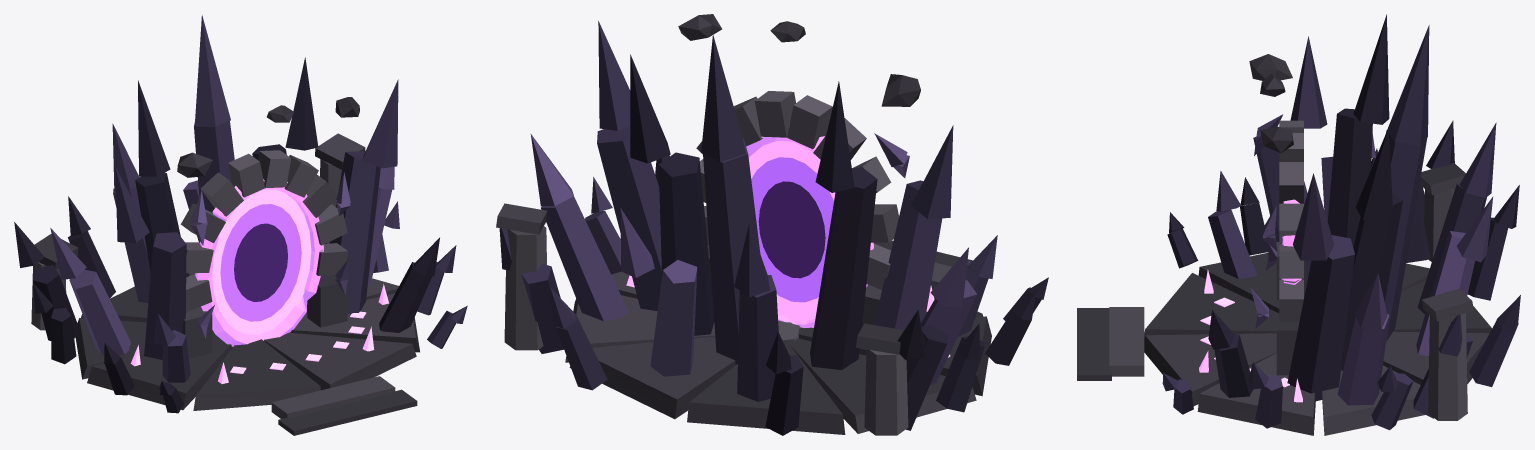
File: void_rift.glb
The picture shows the model from 3 angles, left to right: view 1: azimuth 30°, elevation 25°; view 2: azimuth 150°, elevation 25°; view 3: azimuth 270°, elevation 25°; orthographic projection. The views are drawn at different scales.
Parts seen in each view (by area): view 1: void_rift; view 2: void_rift; view 3: void_rift.
Boxes of the visible parts, box(x1,y1,x2,y2) form: void_rift: box(14, 15, 467, 435); void_rift: box(496, 14, 1048, 435); void_rift: box(1077, 14, 1520, 435).
Bounding box in the file's own units: 9.62 × 7.2 × 8.92.
